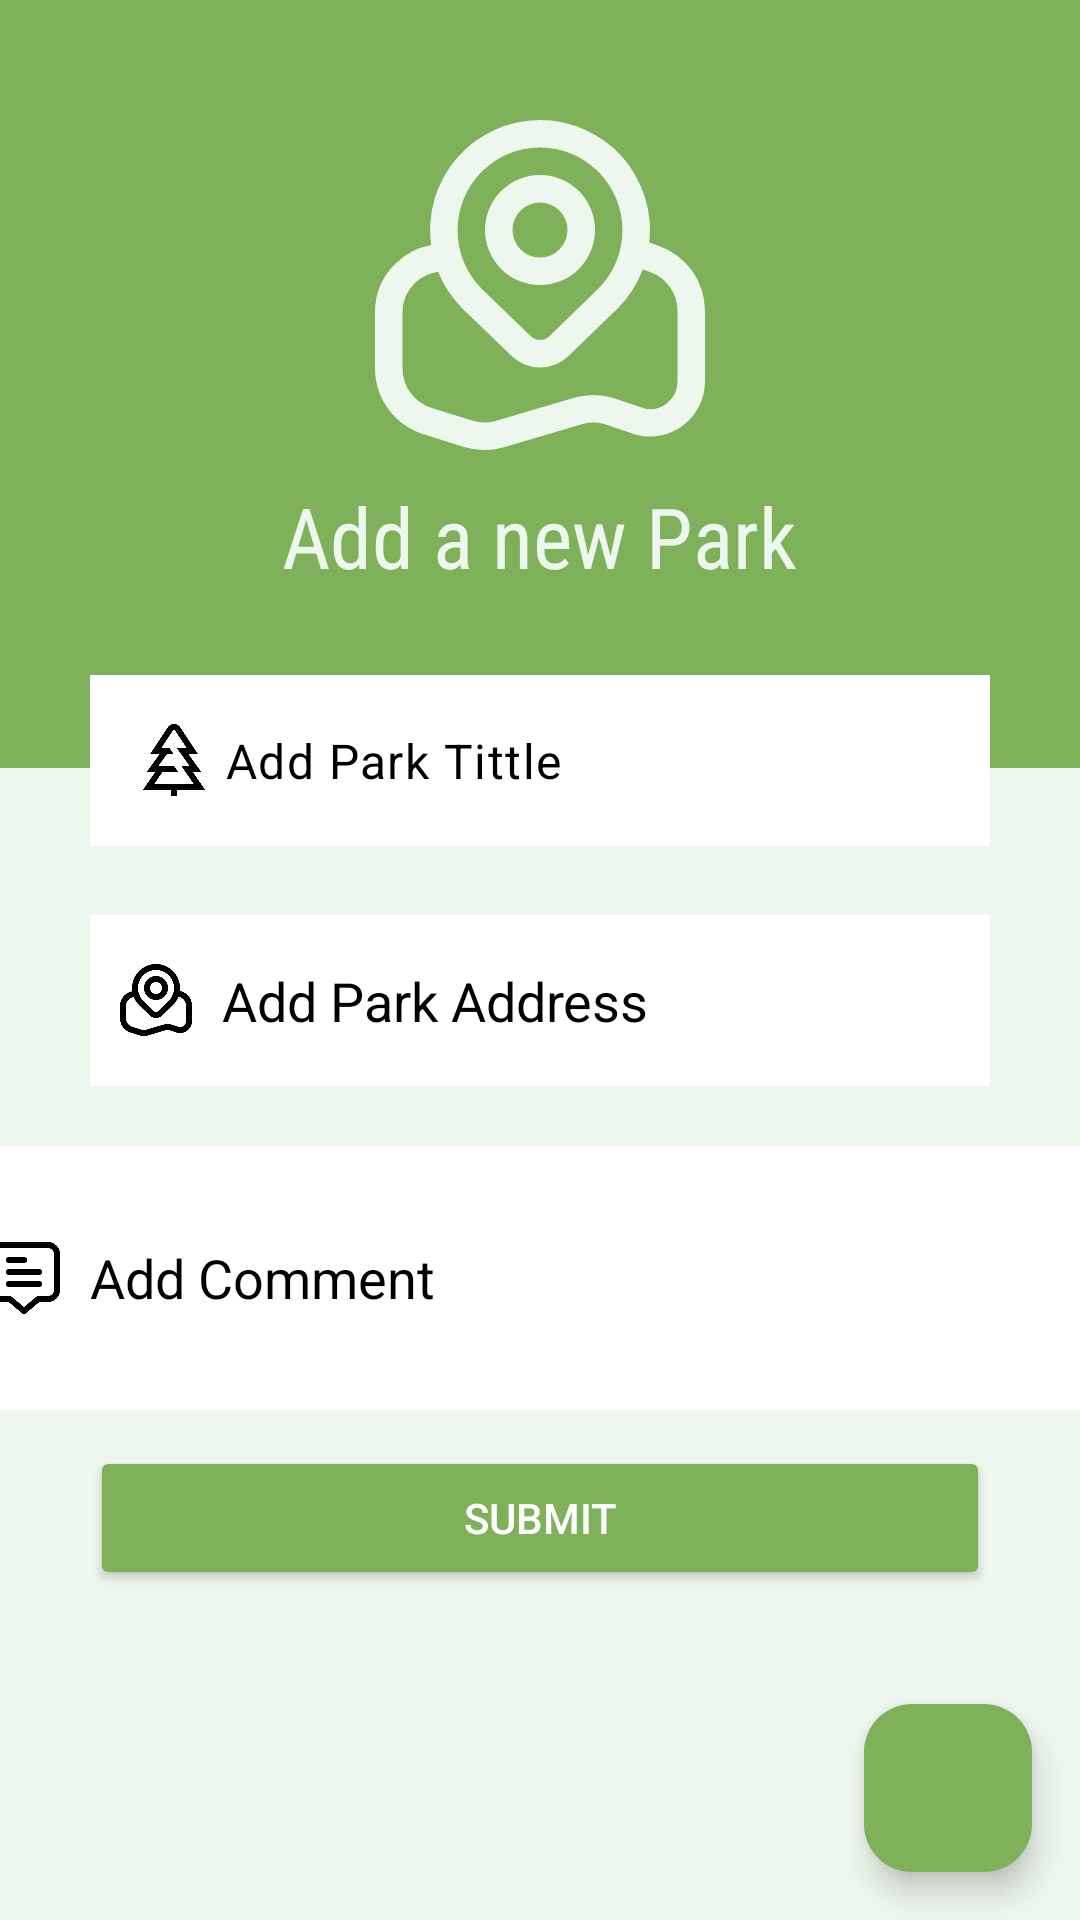

Icon bounding boxes for this 1080w x 1920h phone screenshot, format [x1=x1, y1=y1, x2=x2, y2=y2]:
map marker: [x1=375, y1=120, x2=705, y2=450]
